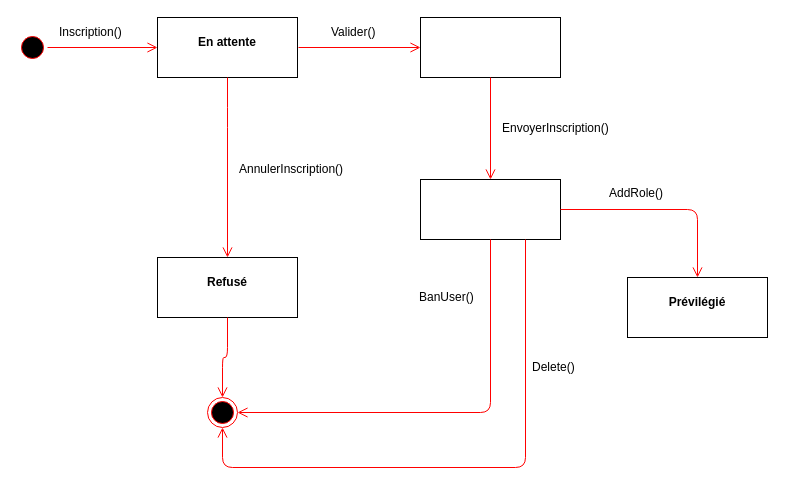
Image size: 785x495. Some labels were removed from this diagram. The shapes that lost their labels are listed below. From the top down, each one's centre as x and y in pixels, then its label:
At pixel 490 47: "Validé".
At pixel 490 209: "Inscris".
